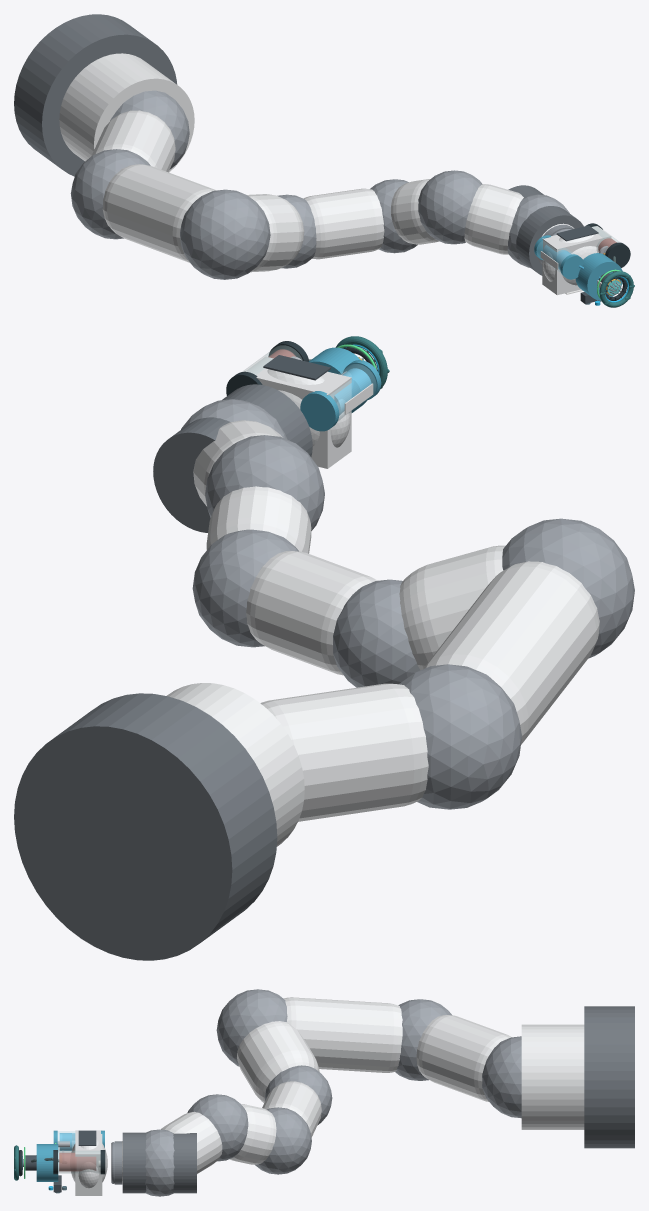
The model's file is dranmar_franka_wound_preparation_assembly.glb.
3 views of the same model, one above another, from view 1: azimuth 30°, elevation 25°; view 2: azimuth 150°, elevation 25°; view 3: azimuth 270°, elevation 25° (orthographic). The views are drawn at different scales.
Parts seen in each view (by area): view 1: arm_base, arm_pedestal, arm_joint_02, arm_link_01, arm_link_03, arm_joint_05, arm_joint_01, arm_link_00, arm_link_05, arm_link_02, panda_link8_proxy, arm_joint_00 (+11 smaller); view 2: arm_base, arm_link_00, arm_link_01, arm_joint_01, arm_link_03, arm_joint_02, arm_pedestal, arm_joint_03, arm_link_02, panda_link8_proxy, arm_joint_04, arm_joint_05 (+8 smaller); view 3: arm_base, arm_link_01, arm_pedestal, arm_link_00, arm_link_02, panda_link8_proxy, arm_joint_02, arm_joint_00, arm_joint_04, arm_joint_05, arm_joint_01, arm_joint_06 (+11 smaller).
Boxes of the visible parts, x1,y1,x2,y2 form: arm_base: (14, 14, 177, 176); arm_pedestal: (59, 53, 194, 172); arm_joint_02: (180, 189, 270, 279); arm_link_01: (102, 164, 216, 262); arm_link_03: (303, 188, 384, 259); arm_joint_05: (418, 170, 482, 244); arm_joint_01: (70, 149, 150, 239); arm_link_00: (91, 110, 175, 172); arm_link_05: (464, 184, 523, 254); arm_link_02: (247, 194, 304, 272); panda_link8_proxy: (508, 185, 583, 275); arm_joint_00: (110, 90, 189, 169); arm_base: (14, 693, 277, 960); arm_link_00: (260, 683, 428, 821); arm_link_01: (423, 561, 599, 744); arm_joint_01: (399, 664, 521, 809); arm_link_03: (246, 551, 377, 675); arm_joint_02: (502, 518, 634, 658); arm_pedestal: (167, 683, 304, 846); arm_joint_03: (333, 579, 420, 687); arm_link_02: (399, 545, 505, 670); panda_link8_proxy: (153, 384, 312, 532); arm_joint_04: (192, 529, 298, 647); arm_joint_05: (205, 435, 324, 530); arm_base: (584, 1006, 634, 1148); arm_link_01: (283, 997, 402, 1072); arm_pedestal: (521, 1024, 584, 1129); arm_link_00: (416, 1015, 511, 1101); arm_link_02: (237, 1021, 319, 1102); panda_link8_proxy: (122, 1132, 196, 1193); arm_joint_02: (216, 989, 287, 1066); arm_joint_00: (482, 1036, 521, 1118); arm_joint_04: (255, 1107, 311, 1174); arm_joint_05: (187, 1094, 248, 1161); arm_joint_01: (395, 999, 451, 1080); arm_joint_06: (145, 1129, 174, 1196).
Bounding box in the file's own units: 0.544 × 0.21 × 0.9182.
